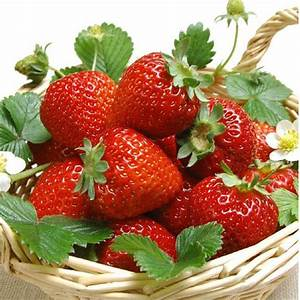Fresa: (86, 123, 187, 227), (181, 168, 286, 264), (174, 92, 275, 188), (108, 50, 202, 145), (34, 65, 124, 152)
